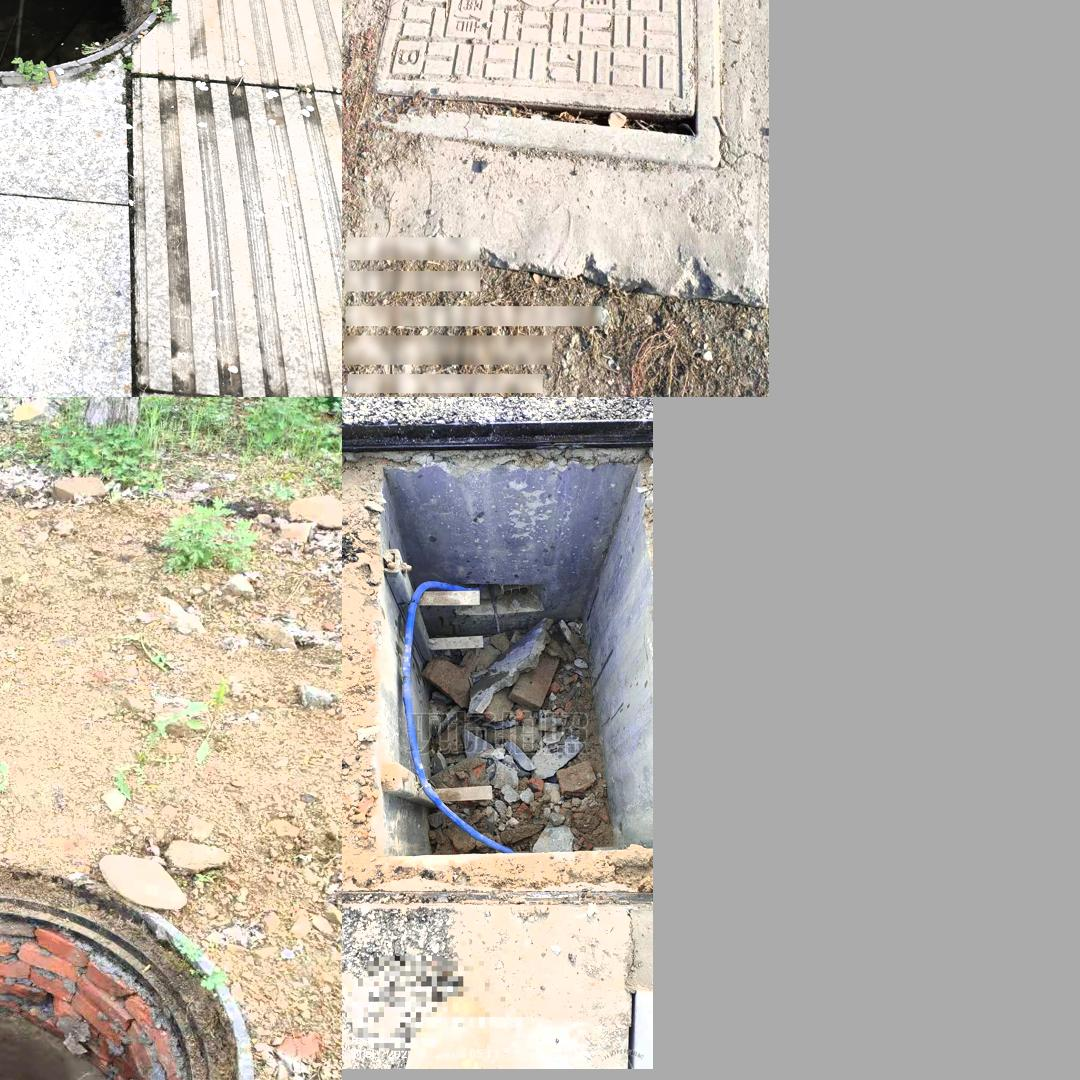lose: (347, 430, 653, 919), (371, 0, 720, 171), (0, 862, 259, 1080), (0, 0, 174, 84)
